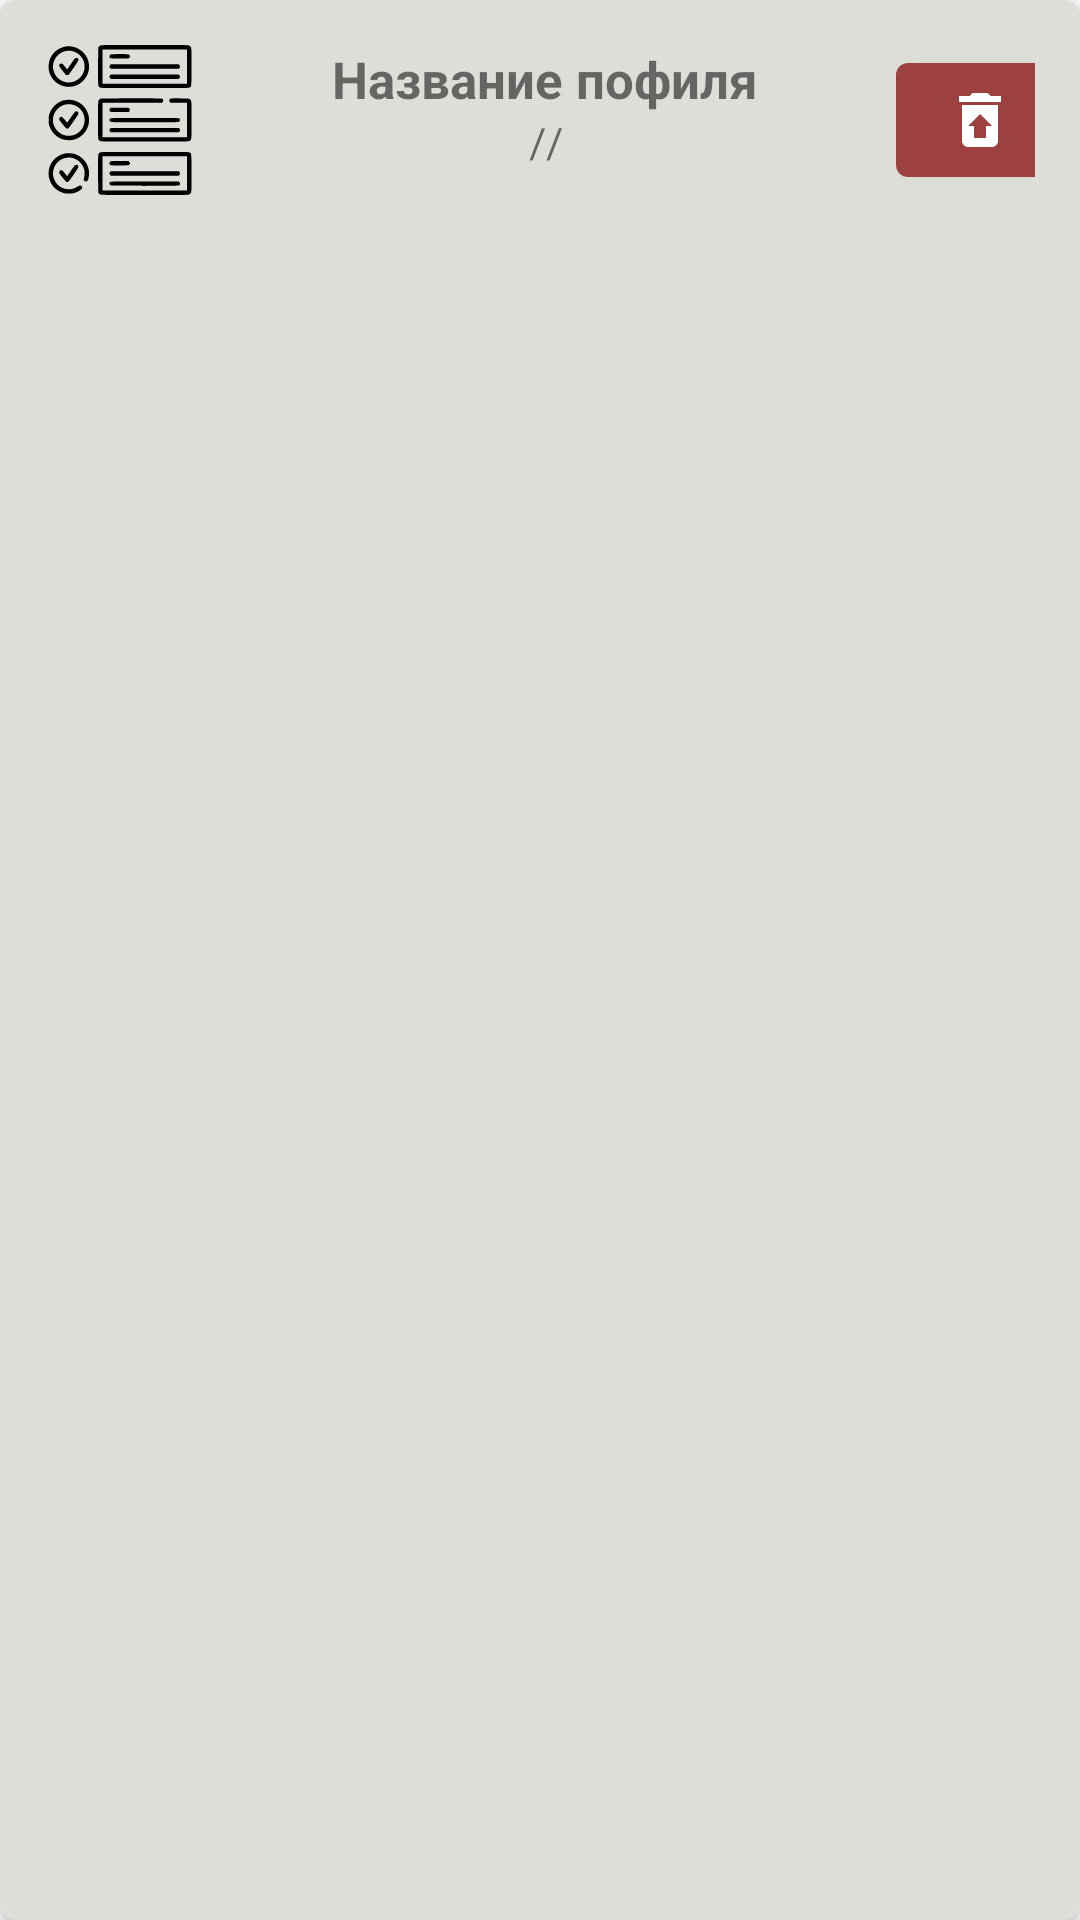

Icons on this 1080 × 1920 Android screen, each with its box as box=[x1, y1, x2, y2]:
to do list: box=[48, 45, 192, 195]
